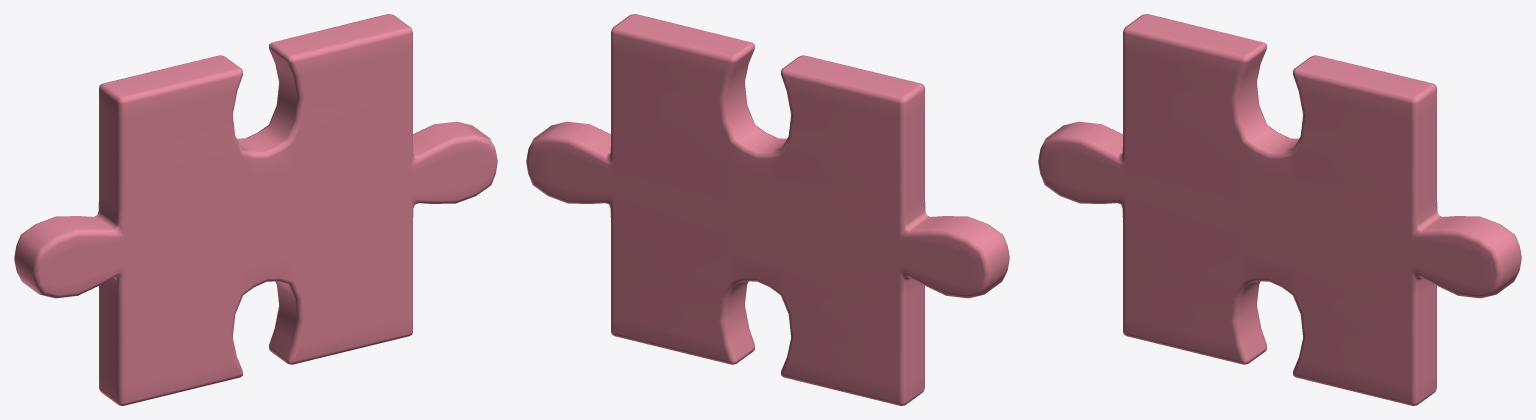
Rendered from Puzzle_2.glb.
3 views of the same model, side by side, from view 1: azimuth 30°, elevation 25°; view 2: azimuth 150°, elevation 25°; view 3: azimuth 330°, elevation 25° (orthographic).
Parts seen in each view (by area): view 1: Puzzle_2; view 2: Puzzle_2; view 3: Puzzle_2.
Part boxes in pixels (box(x1,y1,x2,y2)): Puzzle_2: box(14, 14, 497, 405); Puzzle_2: box(526, 14, 1009, 405); Puzzle_2: box(1038, 14, 1521, 405).
Size of the model in its own units: 0.9005 by 0.5723 by 0.0779.
Materials: 1 (1 with a texture image).
